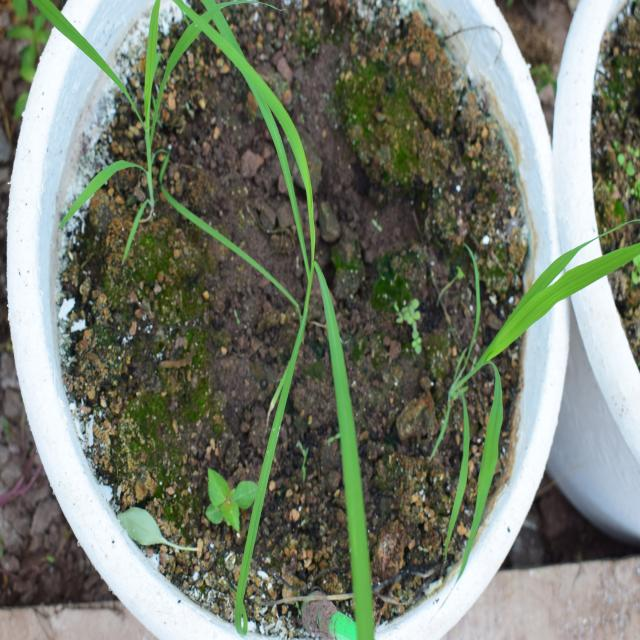barnyard_grass: (203, 27, 383, 603), (394, 198, 640, 535)
